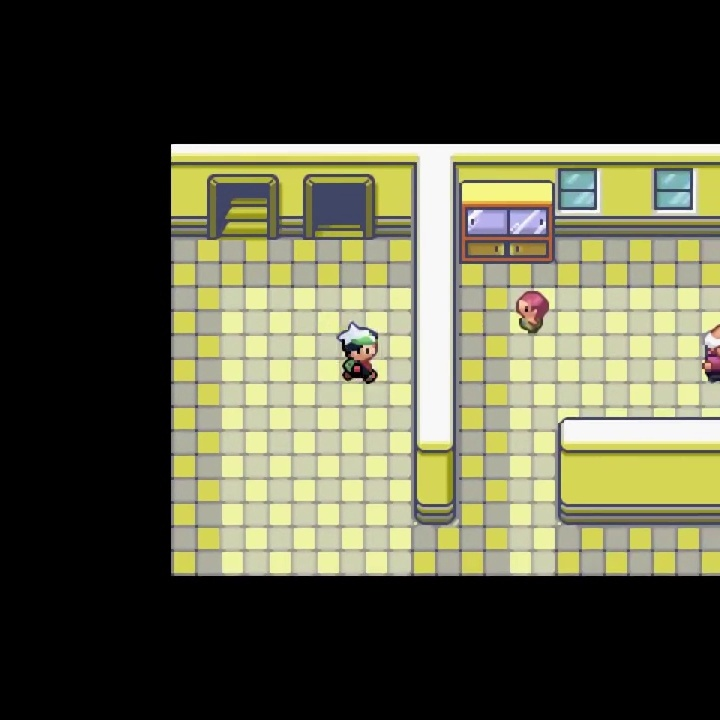agent: (336, 318, 381, 386)
npc: (513, 288, 552, 339)
